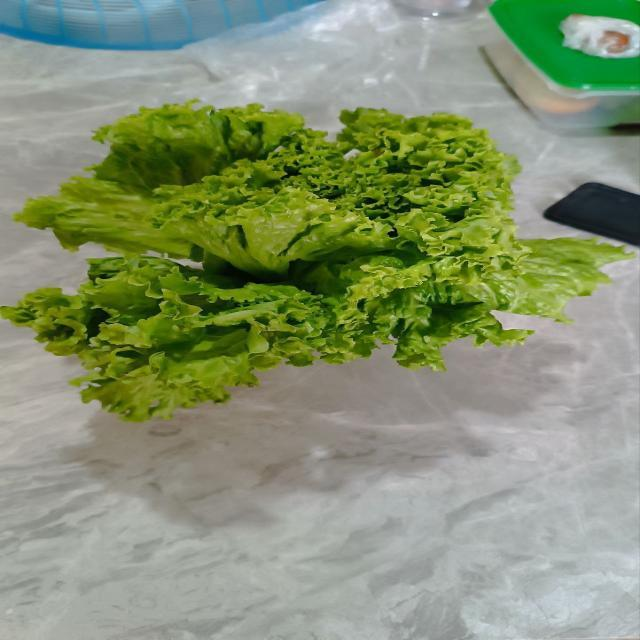Lettuce-Ready-to-Harvest: (17, 93, 605, 421)
